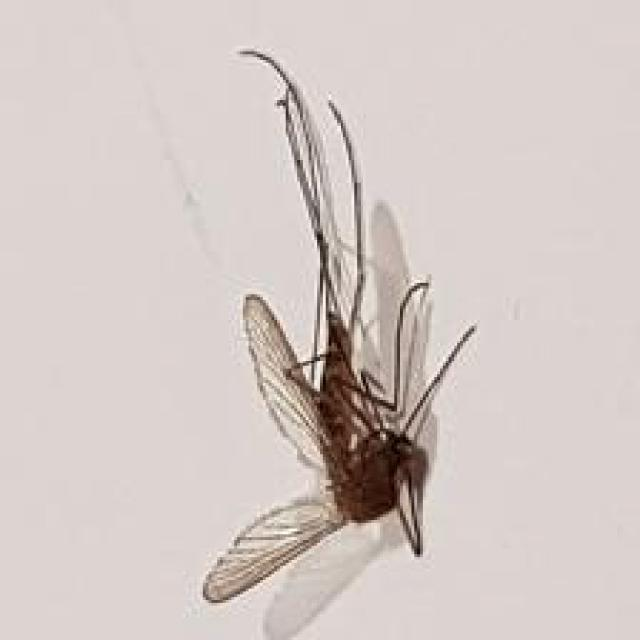Culex: (198, 45, 478, 640)
